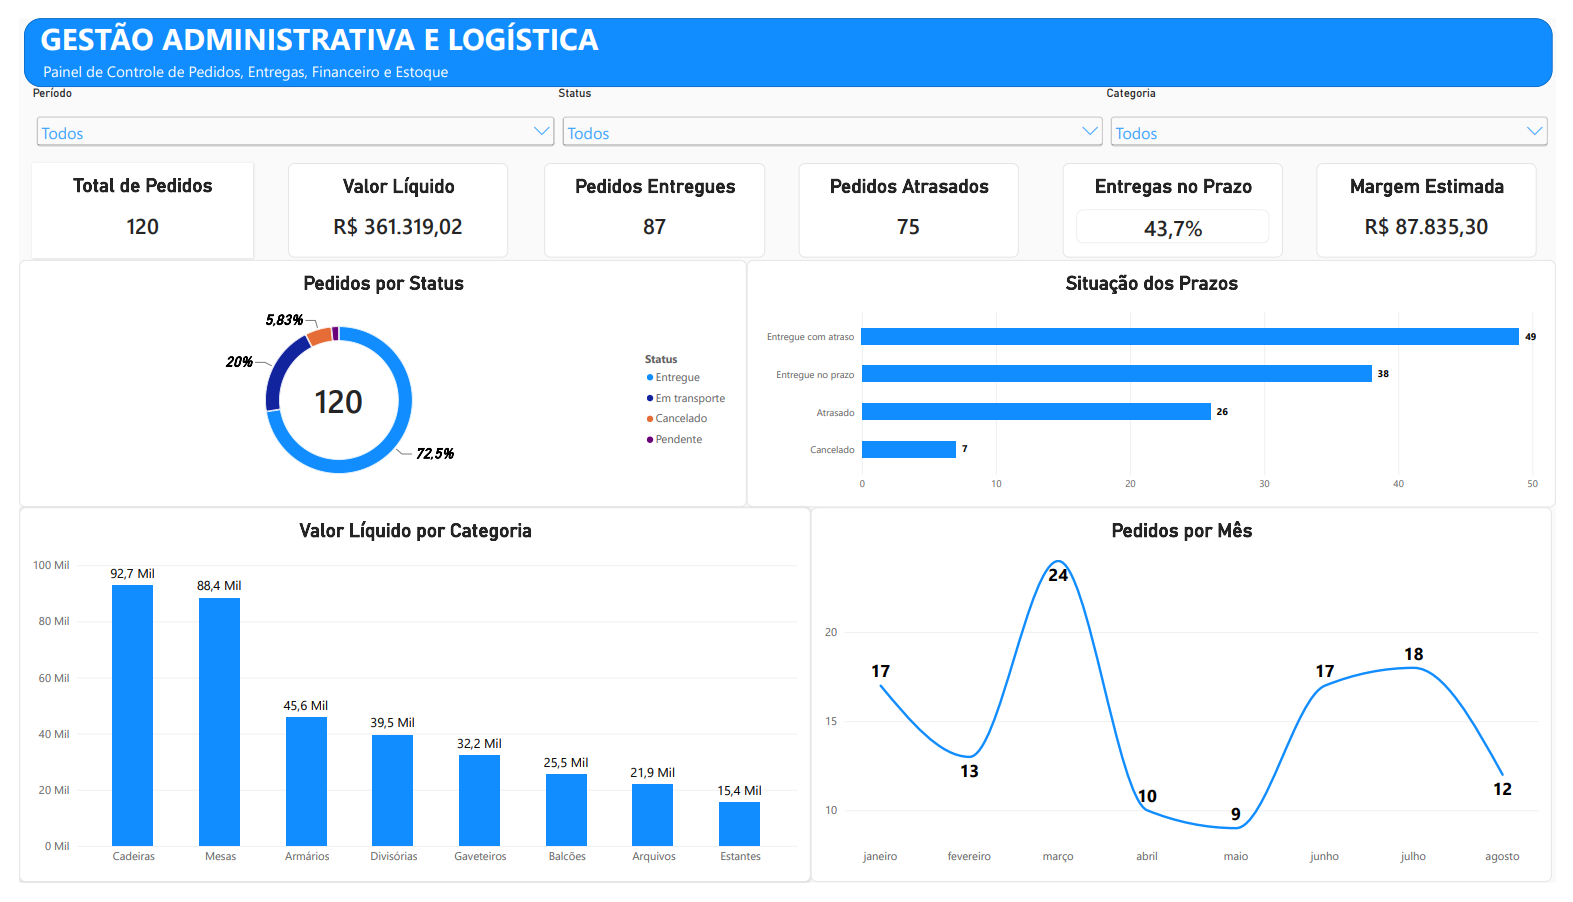

What the dashboard file says about the page in this screenshot:
{"tool":"powerbi","page":{"name":"Visão Geral","canvas":[1920,1080],"ordinal":0},"visuals":[{"type":"donutChart","title":"Pedidos por Status","fields":{"Category":["BI_Pedidos.Status"],"Y":["Count(BI_Pedidos.ID_Pedido)"]},"box":[0,302.4,908.6,308.4],"z":0},{"type":"card","title":"Total de Pedidos","fields":{"Values":["Count(BI_Pedidos.ID_Pedido)"]},"box":[16.6,180.9,275.1,117.9],"z":1000,"group":"g1"},{"type":"barChart","title":"Situação dos Prazos","fields":{"Category":["BI_Pedidos.Situacao_Prazo"],"Y":["Count(BI_Pedidos.ID_Pedido)"]},"box":[908.6,302.4,1011.4,308.4],"z":1000},{"type":"columnChart","title":"Valor Líquido por Categoria","fields":{"Category":["Produtos.Categoria"],"Y":["Sum(BI_Pedidos.Valor_Liquido)"]},"box":[0,610.8,988.7,468.7],"z":2000},{"type":"card","title":"Valor Líquido","fields":{"Values":["Sum(BI_Pedidos.Valor_Liquido)"]},"box":[335.6,180.9,275.1,117.9],"z":3000,"group":"g1"},{"type":"lineChart","title":"Pedidos por Mês","fields":{"Category":["BI_Pedidos.Data_Pedido.Variation.Hierarquia de datas.Mês"],"Y":["Count(BI_Pedidos.ID_Pedido)"]},"box":[988.7,610.8,926.7,468.7],"z":3000},{"type":"shape","box":[5.7,0,1910,85.7],"z":4000},{"type":"textbox","box":[30.2,52.9,580.5,43.8],"z":5000},{"type":"card","title":"Pedidos Entregues","fields":{"Values":["Count(BI_Pedidos.ID_Pedido)"]},"box":[656.1,180.9,275.1,117.9],"z":5000,"group":"g1"},{"type":"textbox","box":[6,0,739.3,52.9],"z":6000},{"type":"slicer","title":"Status","fields":{"Values":["BI_Pedidos.Status"]},"box":[674.3,86.2,684.9,93.7],"z":7000},{"type":"card","title":"Pedidos Atrasados","fields":{"Values":["Count(BI_Pedidos.ID_Pedido)"]},"box":[973.6,180.9,275.1,117.9],"z":7000,"group":"g1"},{"type":"group","id":"g1","title":"Grupo 1","box":[16.6,180.9,1879.2,117.9],"z":8000},{"type":"slicer","title":"Categoria","fields":{"Values":["Produtos.Categoria"]},"box":[1359.1,86.2,556.3,90.7],"z":9000},{"type":"cardVisual","title":"Entregas no Prazo","fields":{"Data":["BI_Pedidos.Taxa_Entrega_No_Prazo"]},"box":[1303.2,180.9,275.1,117.9],"z":9000,"group":"g1"},{"type":"slicer","title":"Período","fields":{"Values":["BI_Pedidos.Data_Pedido"]},"box":[16.6,86.2,657.6,93.7],"z":10000},{"type":"card","title":"Margem Estimada","fields":{"Values":["Sum(BI_Pedidos.Margem_Estimada)"]},"box":[1620.6,180.9,275.1,117.9],"z":10000,"group":"g1"}]}

Visuals, with their boxes in screenshot pixels (x1, y1, x2, y2), scaled from the page's 1920x1080 canvas onto the 1573x902 screenshot:
"Pedidos por Status" donutChart: [0, 253, 744, 510]
"Total de Pedidos" card: [14, 151, 239, 250]
"Situação dos Prazos" barChart: [744, 253, 1572, 510]
"Valor Líquido por Categoria" columnChart: [0, 510, 810, 901]
"Valor Líquido" card: [275, 151, 500, 250]
"Pedidos por Mês" lineChart: [810, 510, 1569, 901]
shape: [5, 0, 1569, 72]
textbox: [25, 44, 500, 81]
"Pedidos Entregues" card: [538, 151, 763, 250]
textbox: [5, 0, 611, 44]
"Status" slicer: [552, 72, 1114, 150]
"Pedidos Atrasados" card: [798, 151, 1023, 250]
"Grupo 1" group: [14, 151, 1553, 250]
"Categoria" slicer: [1113, 72, 1569, 148]
"Entregas no Prazo" cardVisual: [1068, 151, 1293, 250]
"Período" slicer: [14, 72, 552, 150]
"Margem Estimada" card: [1328, 151, 1553, 250]
